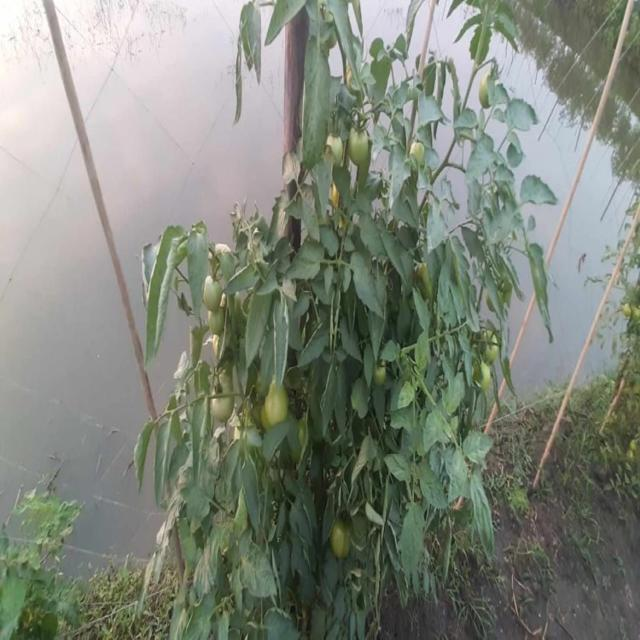tomato: (344, 121, 376, 165), (264, 380, 292, 426), (206, 231, 234, 271), (213, 384, 238, 419), (329, 124, 349, 167), (330, 529, 356, 559), (481, 74, 498, 110), (206, 309, 231, 333), (482, 335, 502, 364), (200, 277, 225, 299), (479, 363, 496, 393), (408, 139, 424, 167), (618, 299, 638, 320), (377, 360, 387, 389)
